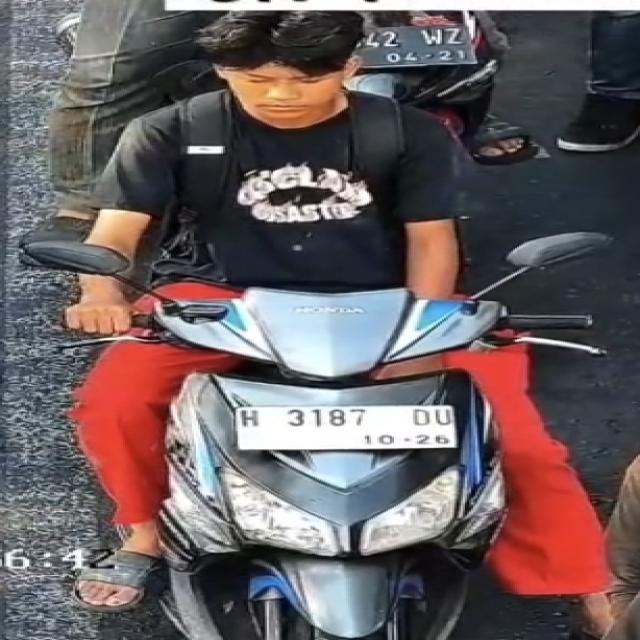WithoutHelmet: (65, 9, 617, 621)
